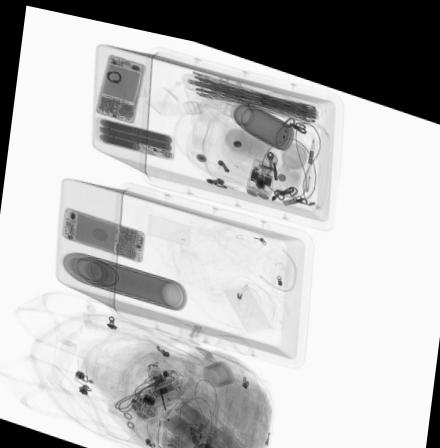Lighter: (203, 421, 213, 444)
